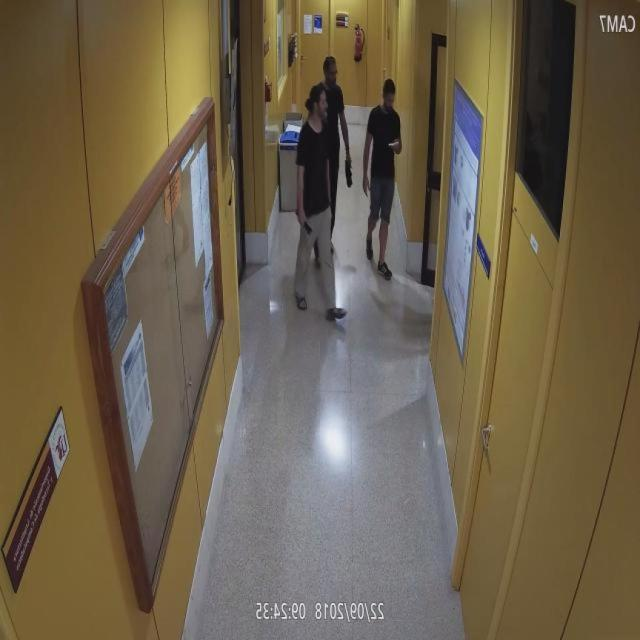pistol: (388, 138, 401, 155)
